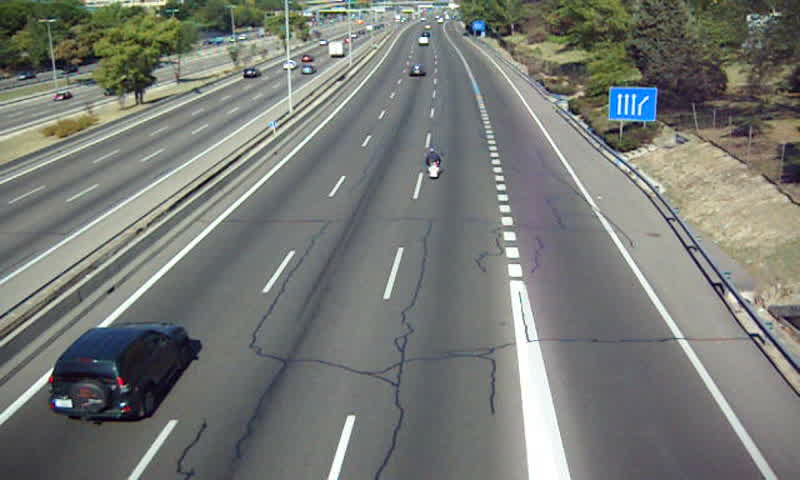car: (50, 324, 194, 419), (407, 64, 427, 78)
motorcycle: (423, 149, 441, 181)
